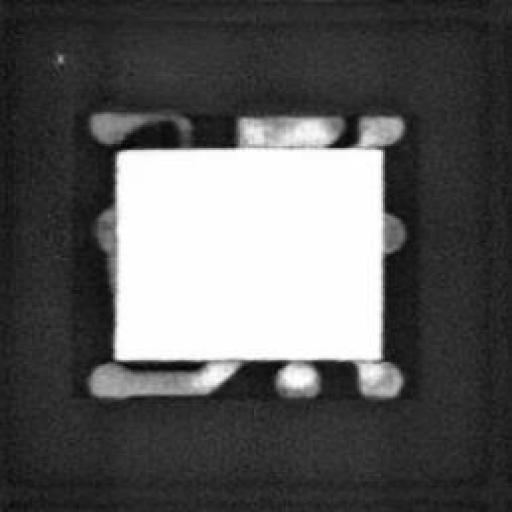DIE_INK: (48, 48, 68, 62)
